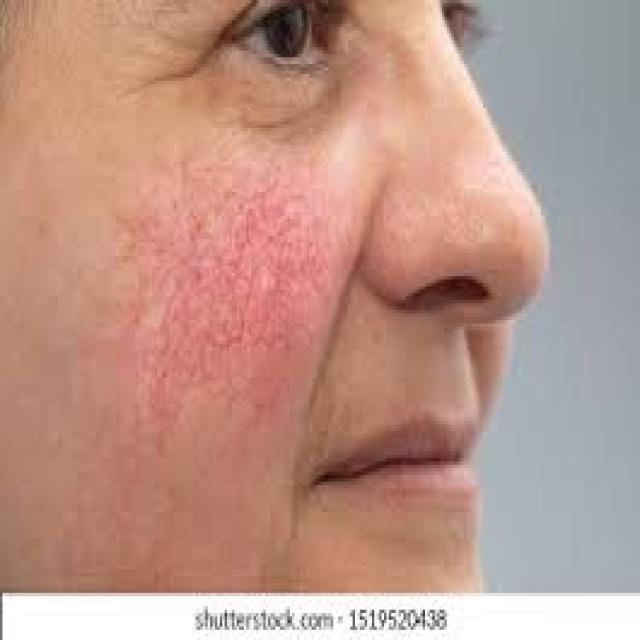Rosacea: (110, 167, 333, 452)
